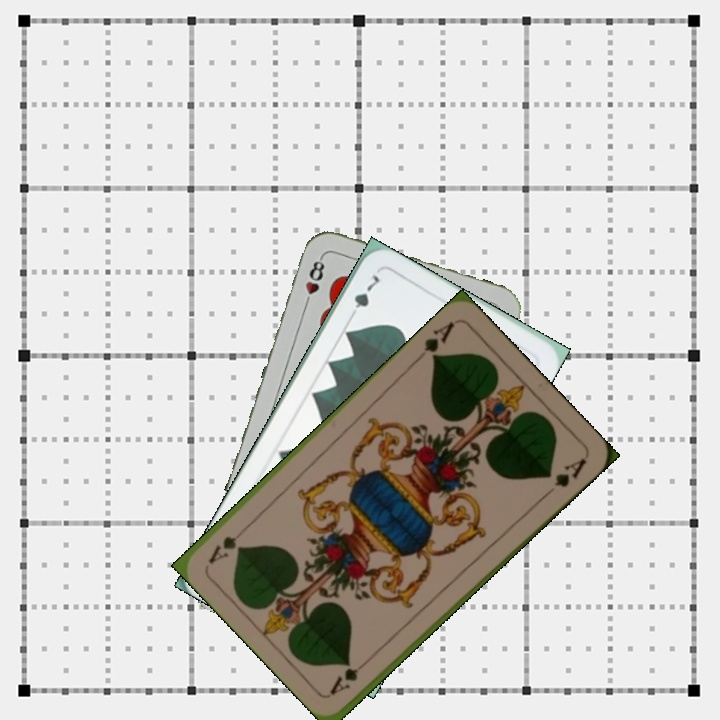G7: (345, 270, 382, 322)
GA: (412, 317, 458, 365), (326, 652, 375, 697)
H8: (300, 252, 328, 310)
